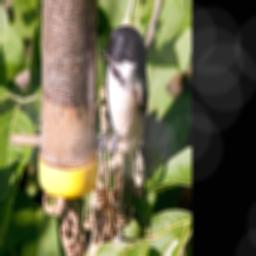Swallow: (95, 21, 149, 163)
